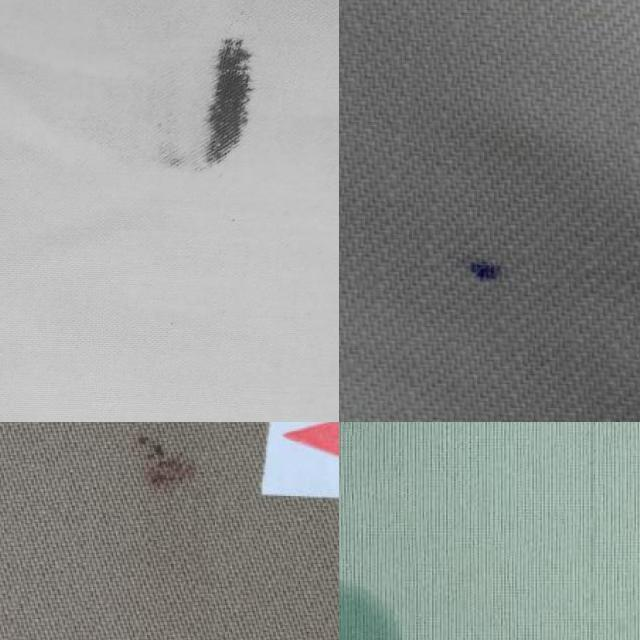Hole: (154, 10, 296, 186), (425, 178, 560, 358), (101, 422, 241, 566)
